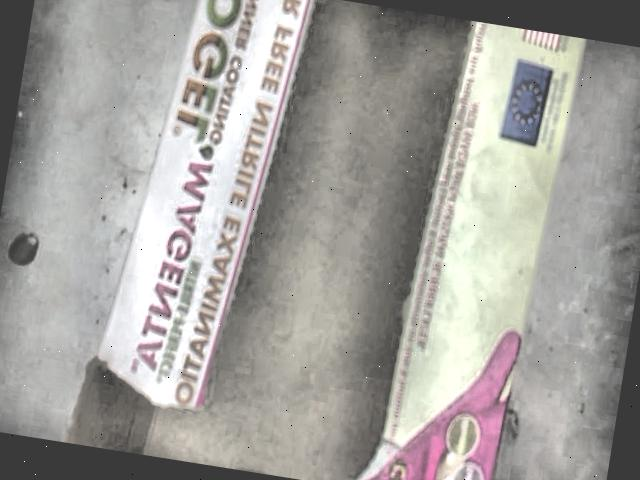Paper: (64, 0, 583, 480)
